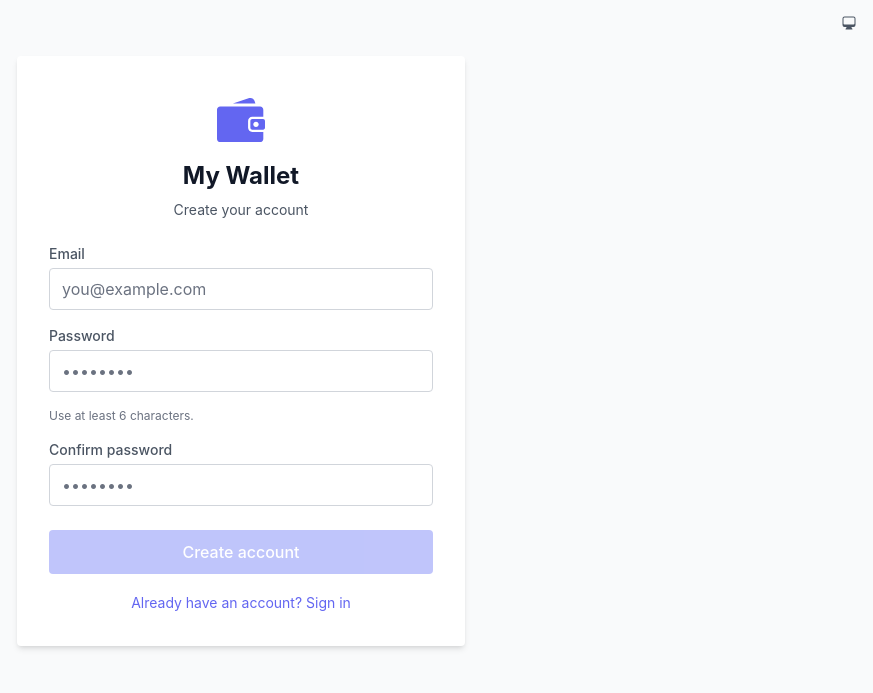
Test: SignUp › shows an error when the passwords do not match
The image size is (873, 693).
Type "new@example.com" into the field labelled "Email" at (241, 289), box [49,268,433,310]
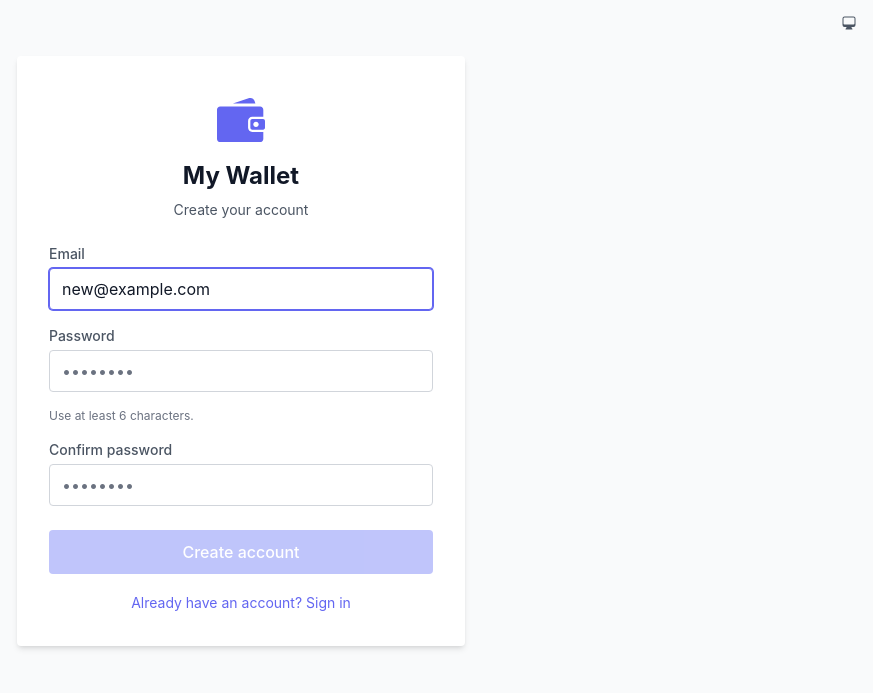
Type "password" into the password field labelled "Password" at (241, 371), box [49,350,433,392]
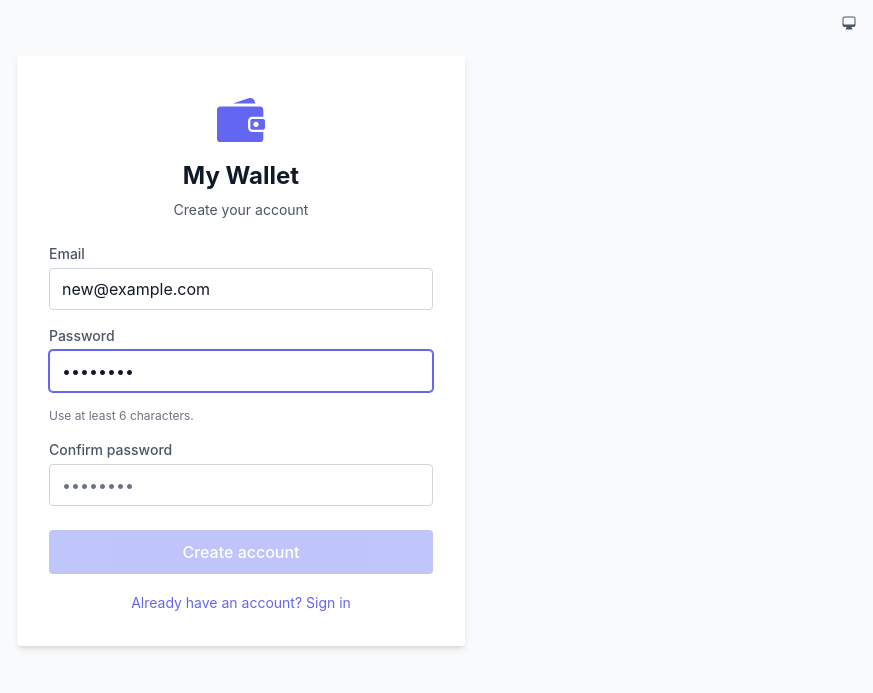
Type "different" into the password field labelled "Confirm password" at (241, 485), box [49,464,433,506]
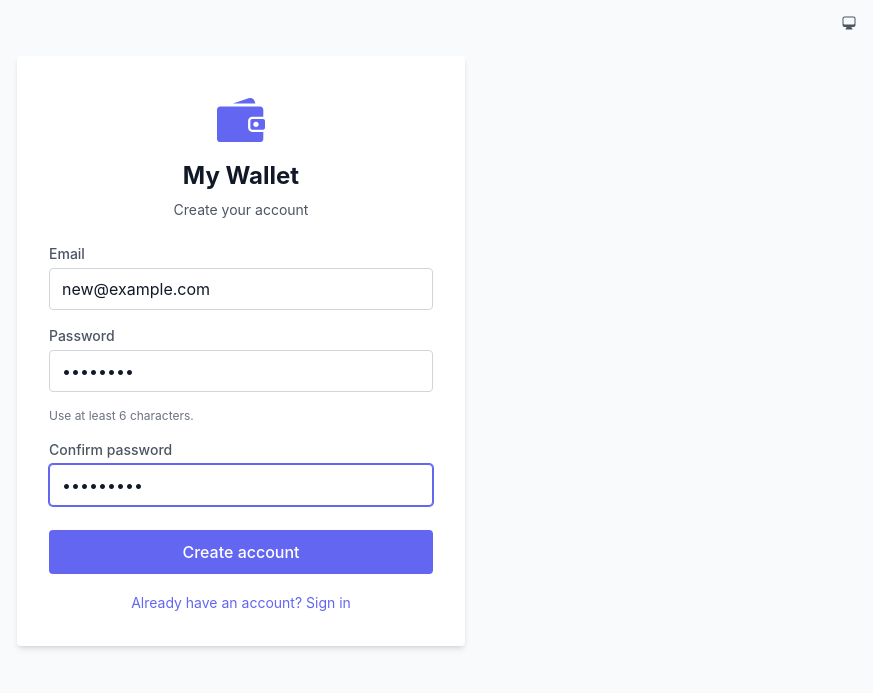
Click the button "Create account" at (241, 552), box [49,530,433,574]
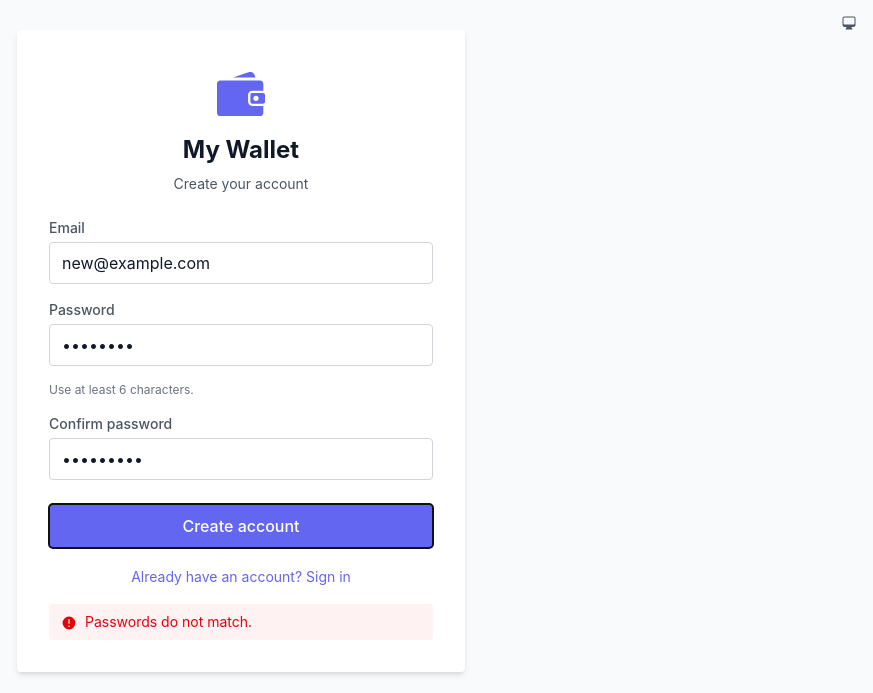
Result: the text "Passwords do not match." is shown at [49,604,433,640]
